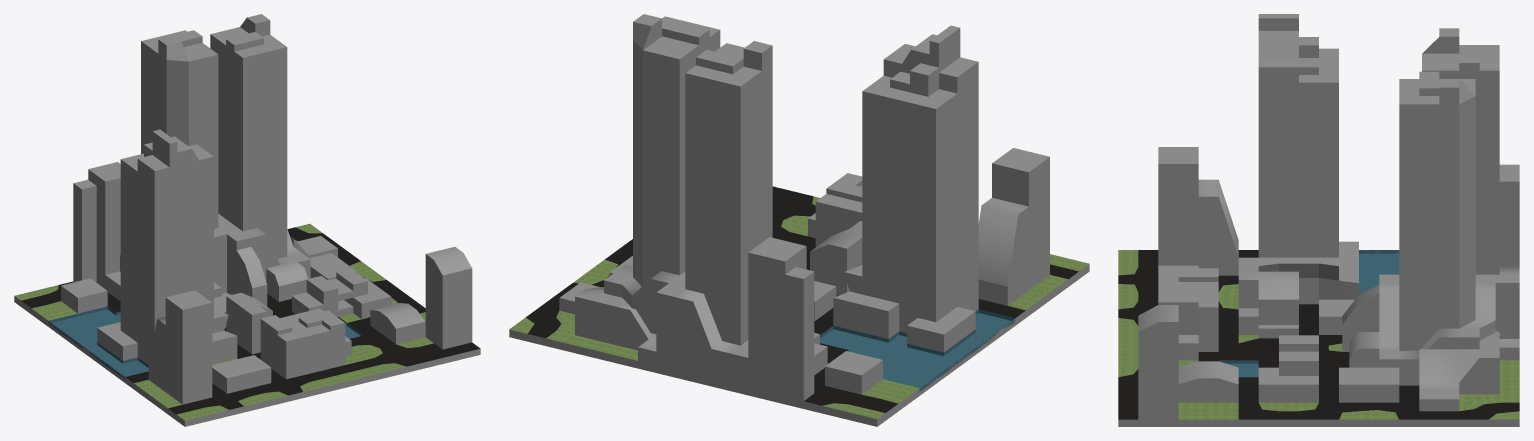
File: city.obj
3 renders of one model, left to right at view 1: azimuth 30°, elevation 25°; view 2: azimuth 150°, elevation 25°; view 3: azimuth 270°, elevation 25°, orthographic. The views are drawn at different scales.
Parts seen in each view (by area): view 1: Building; view 2: Building; view 3: Building.
Boxes of the visible parts, bbox=[...] form: Building: bbox=[14, 14, 480, 426]; Building: bbox=[509, 14, 1089, 426]; Building: bbox=[1118, 14, 1519, 426].
Bounding box in the file's own units: 394 × 321 × 394.
